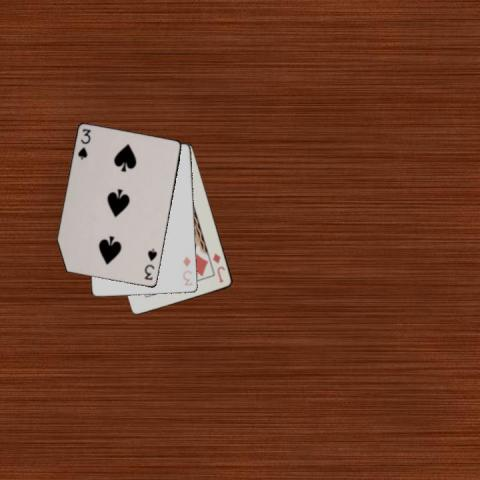3d: (180, 254, 193, 287)
3s: (142, 246, 159, 282), (75, 126, 92, 161)
Jd: (210, 251, 227, 284)
